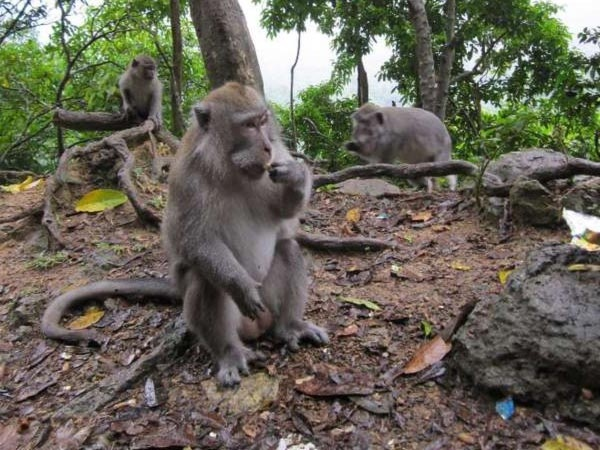monkey: (159, 78, 338, 389), (341, 99, 465, 194), (115, 50, 166, 130)
